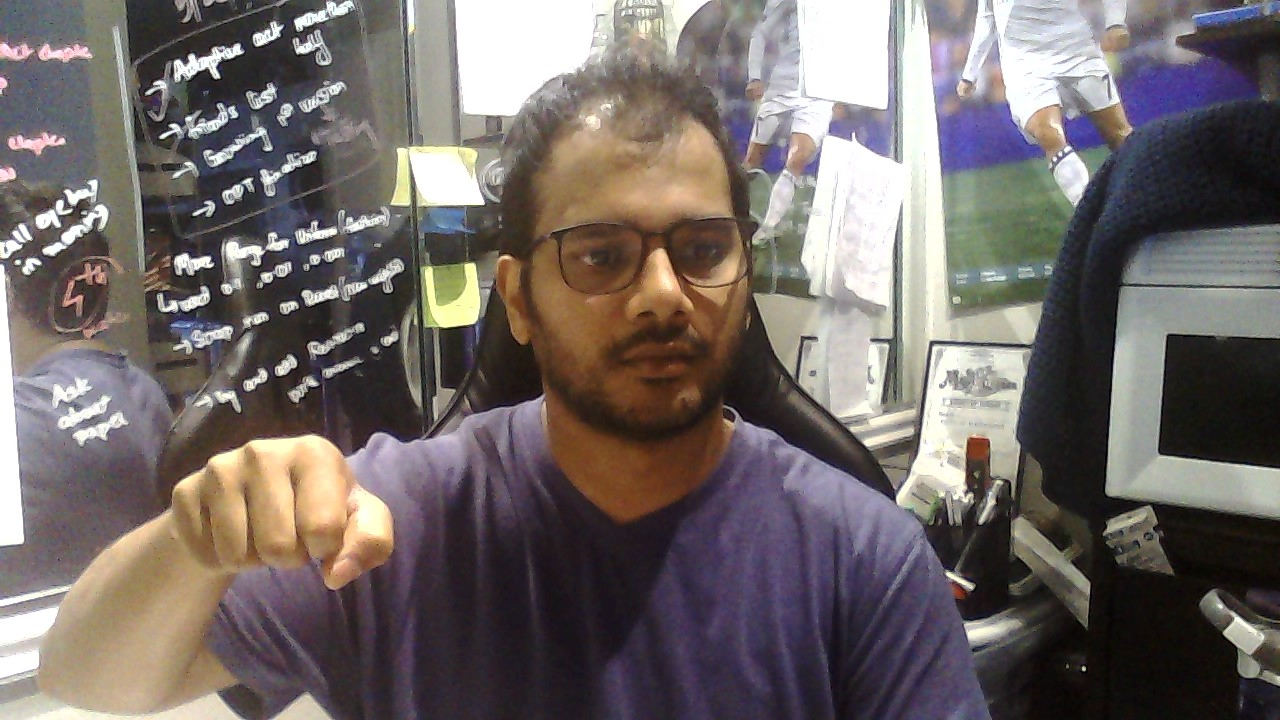Yes: (170, 434, 395, 589)
